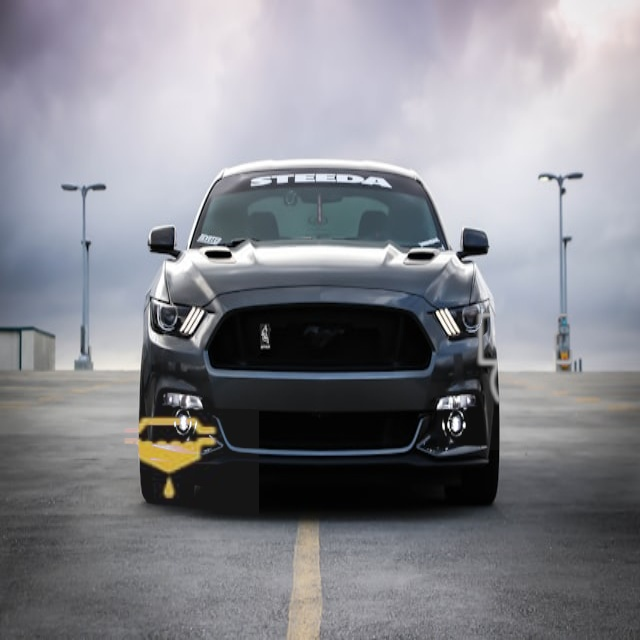symbol: (437, 270, 617, 450), (81, 370, 259, 548)
